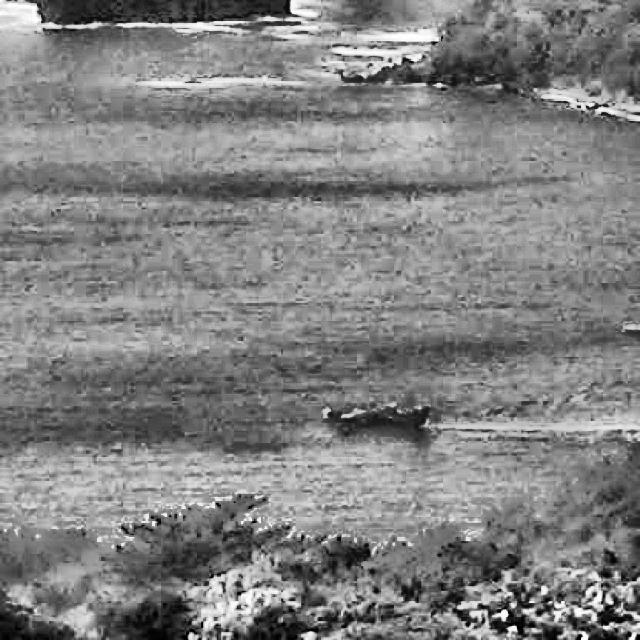US2: (319, 402, 433, 436)
